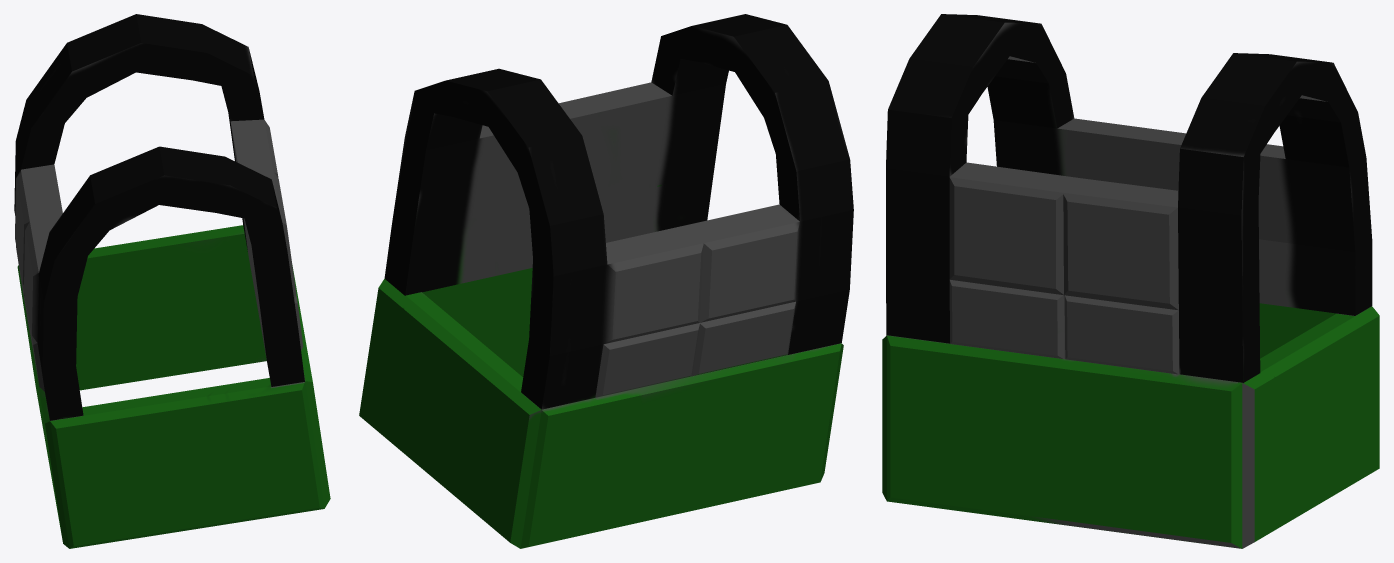
File: U_ArmorPU.obj
3 views of the same model, side by side, from view 1: azimuth 30°, elevation 25°; view 2: azimuth 150°, elevation 25°; view 3: azimuth 270°, elevation 25° (orthographic). The views are drawn at different scales.
Visible parts, largest first — view 1: Plane; view 2: Plane; view 3: Plane.
Part boxes in pixels (left/top/right/bottom): Plane: left=14, top=14, right=330, bottom=548; Plane: left=359, top=14, right=853, bottom=548; Plane: left=882, top=14, right=1379, bottom=548.
Size of the model in its own units: 0.4578 by 0.4964 by 0.4764.
